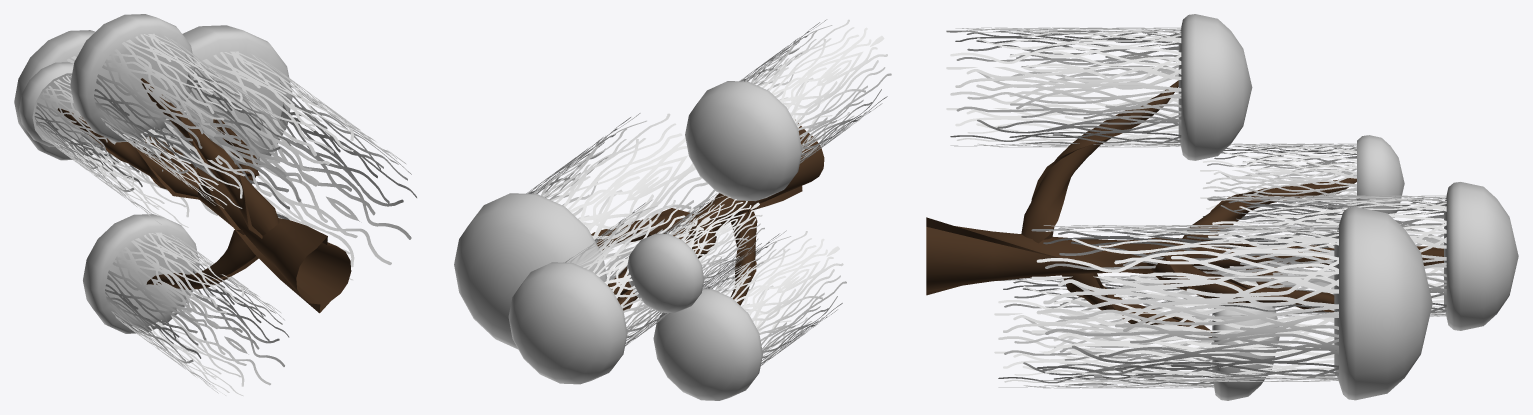
File: Tree2.fbx
The picture shows the model from 3 angles, left to right: view 1: azimuth 30°, elevation 25°; view 2: azimuth 150°, elevation 25°; view 3: azimuth 270°, elevation 25°; orthographic projection. The views are drawn at different scales.
Visible parts, largest first — view 1: Tree2; view 2: Tree2; view 3: Tree2.
Part boxes in pixels (bbox=[...]): Tree2: bbox=[14, 14, 416, 396]; Tree2: bbox=[454, 19, 891, 400]; Tree2: bbox=[926, 14, 1518, 400].
Bounding box in the file's own units: 256814 × 419319 × 282259.
